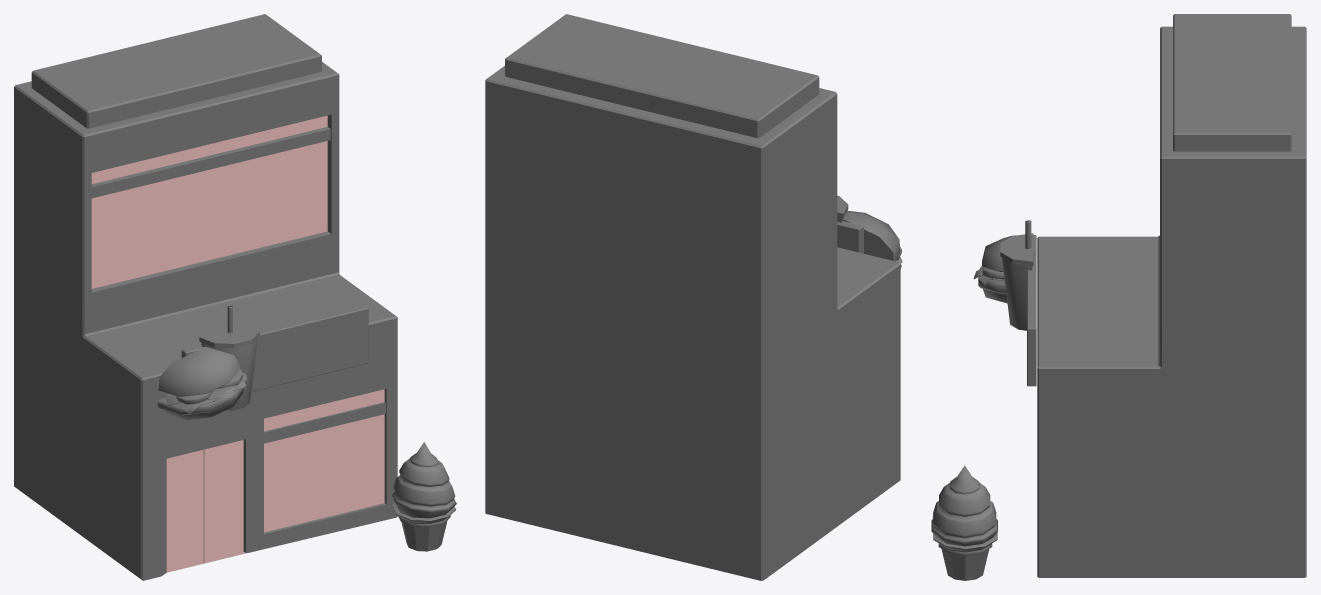
File: FatFoodBuidling.fbx
The picture shows the model from 3 angles, left to right: view 1: azimuth 30°, elevation 25°; view 2: azimuth 150°, elevation 25°; view 3: azimuth 270°, elevation 25°; orthographic projection. The views are drawn at different scales.
Visible parts, largest first — view 1: polySurface9 (×2); view 2: polySurface9; view 3: polySurface9.
Boxes of the visible parts, x1,y1,x2,y2 form: polySurface9 (×2): (14, 14, 456, 580); polySurface9: (485, 14, 902, 580); polySurface9: (931, 14, 1306, 580).
Size of the model in its own units: 858 by 1245 by 962.
